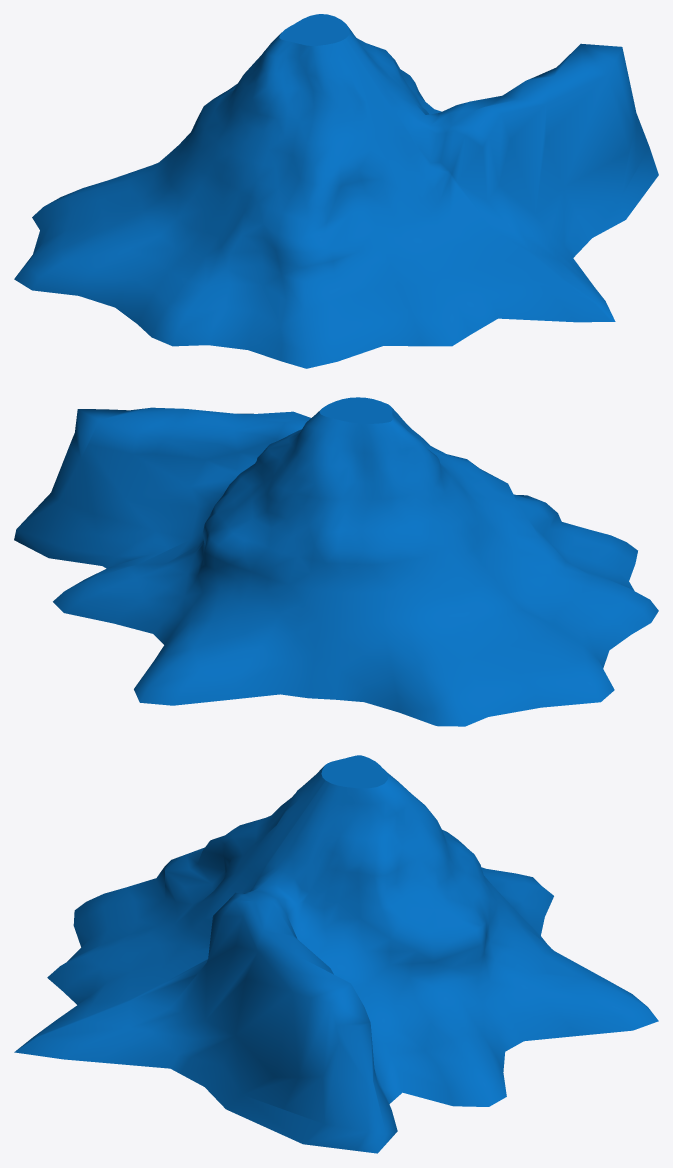
The model's file is Mountain 2.FBX.
3 renders of one model, top to bottom at view 1: azimuth 30°, elevation 25°; view 2: azimuth 150°, elevation 25°; view 3: azimuth 270°, elevation 25°, orthographic. The views are drawn at different scales.
Visible parts, largest first — view 1: Mountain001; view 2: Mountain001; view 3: Mountain001.
Part boxes in pixels (bbox=[...]): Mountain001: bbox=[14, 14, 658, 368]; Mountain001: bbox=[14, 397, 658, 726]; Mountain001: bbox=[14, 755, 658, 1153].
Size of the model in its own units: 15407 by 4969 by 13629.
